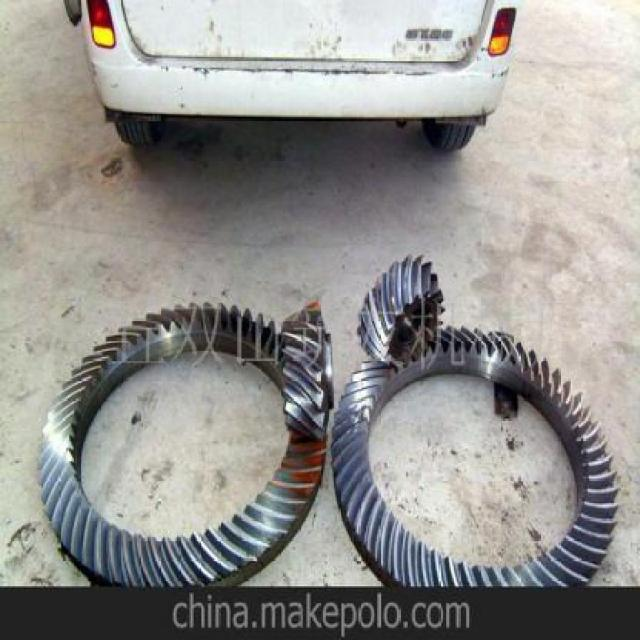Gear: (36, 302, 328, 588), (329, 324, 622, 587), (355, 252, 445, 368), (278, 305, 334, 441)
